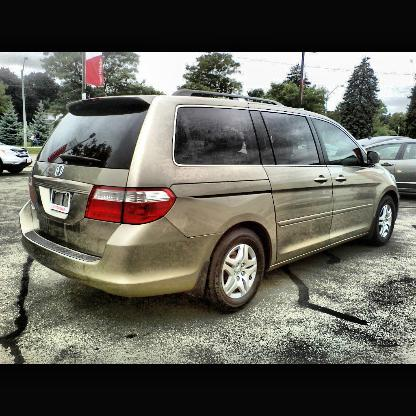Honda Odyssey Minivan 2007: (17, 87, 404, 319)
